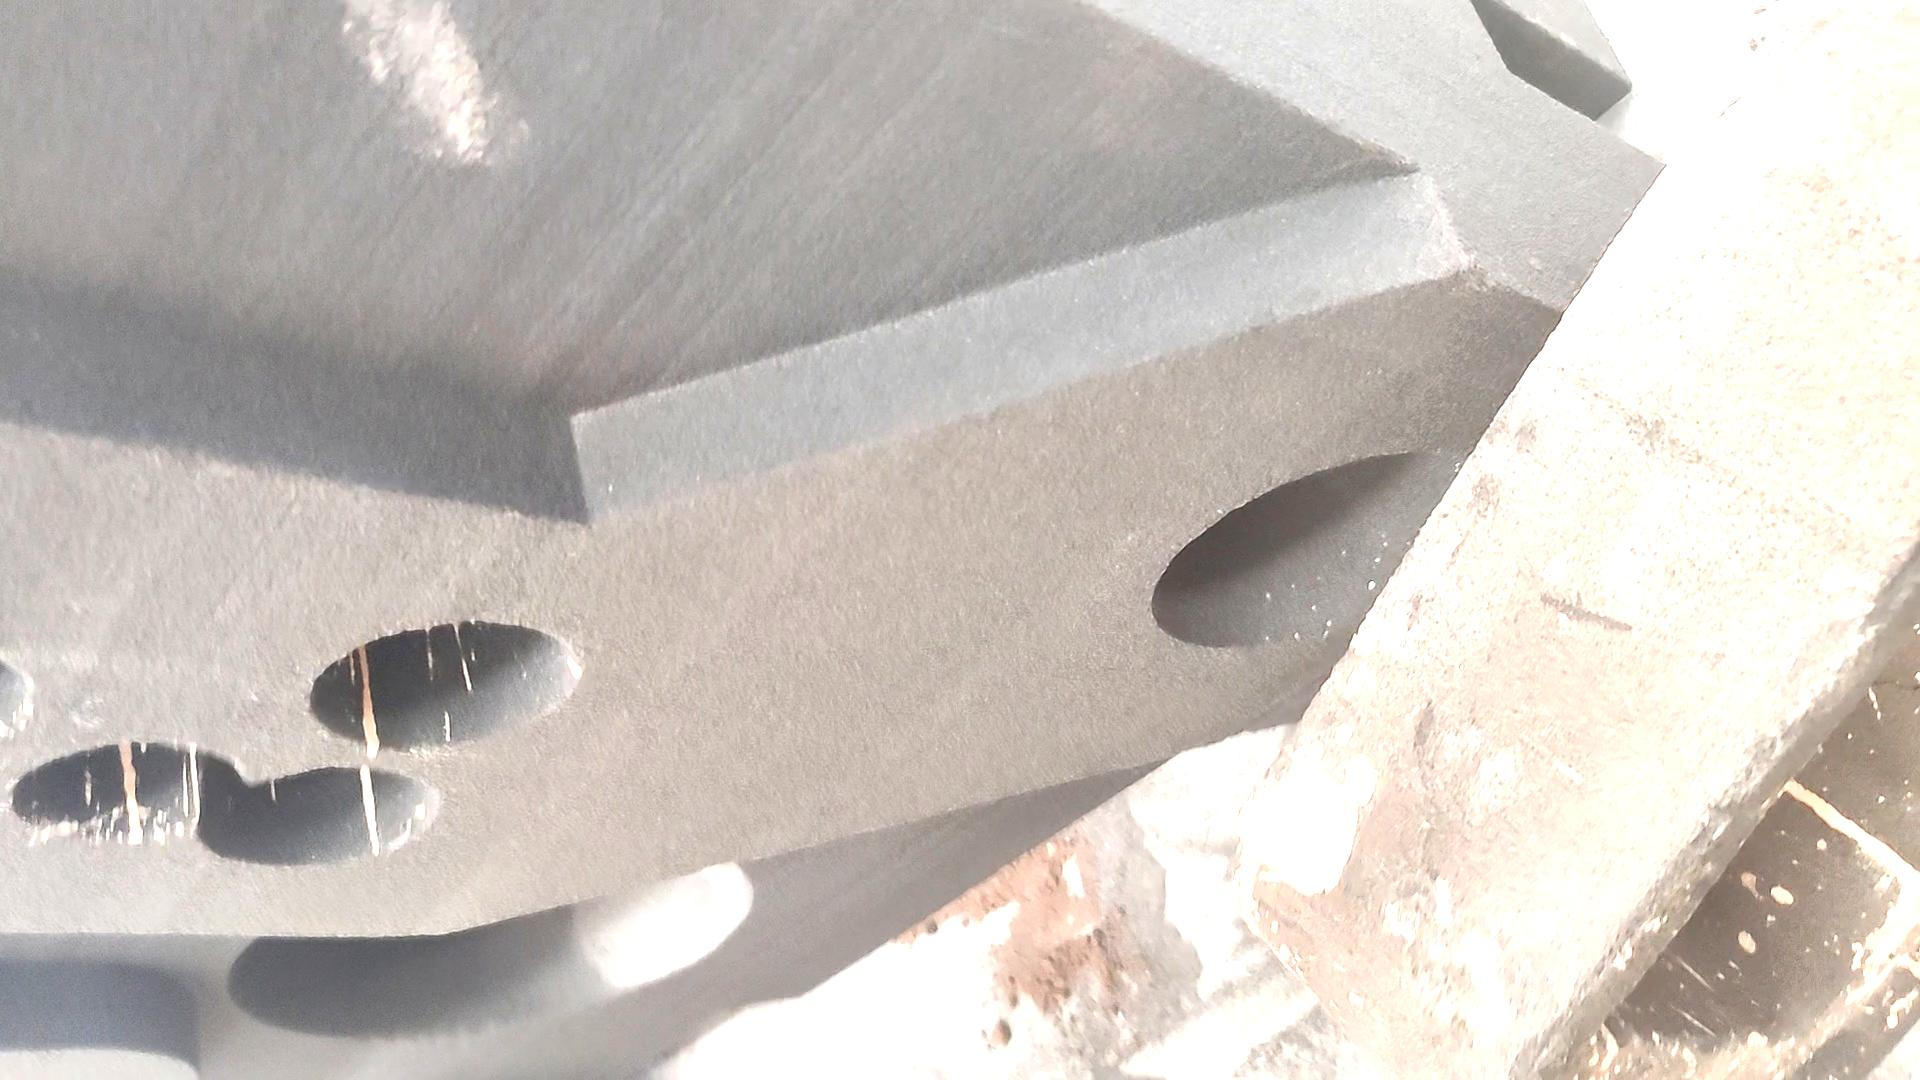pouring hole: (1150, 450, 1476, 647)
